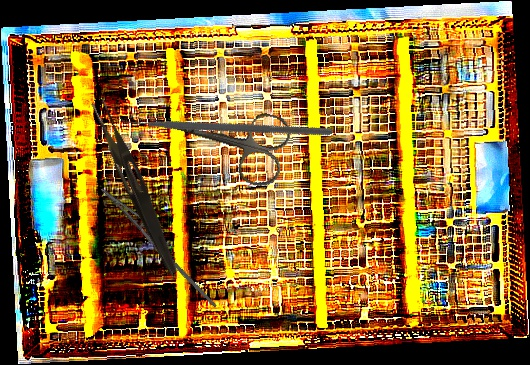Chopper: (111, 19, 334, 222)
Dressing Forceps: (84, 97, 187, 277)
Iris Scissors: (141, 83, 295, 191)
Needle Holder: (87, 177, 238, 309)
